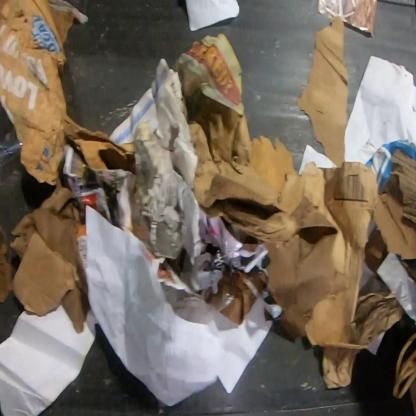cardboard: (187, 93, 378, 351), (364, 147, 415, 285), (13, 232, 80, 318), (66, 129, 137, 171), (218, 265, 266, 326), (251, 134, 299, 192), (365, 140, 415, 193), (392, 328, 415, 402)
rigid_plastic: (0, 123, 24, 172)
soft_plastic: (179, 284, 237, 325)
